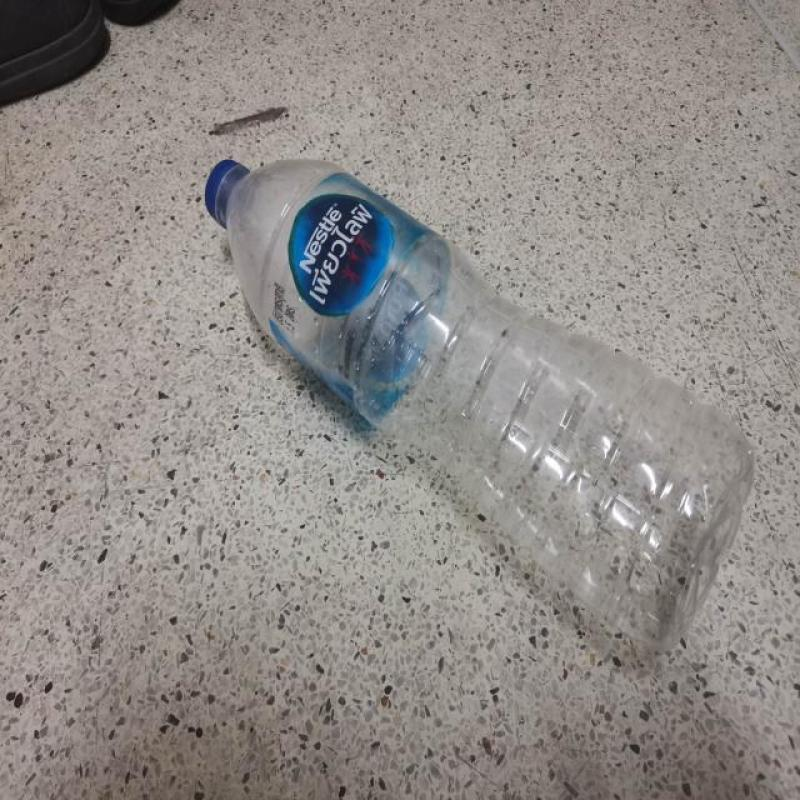botella: (205, 160, 754, 651)
